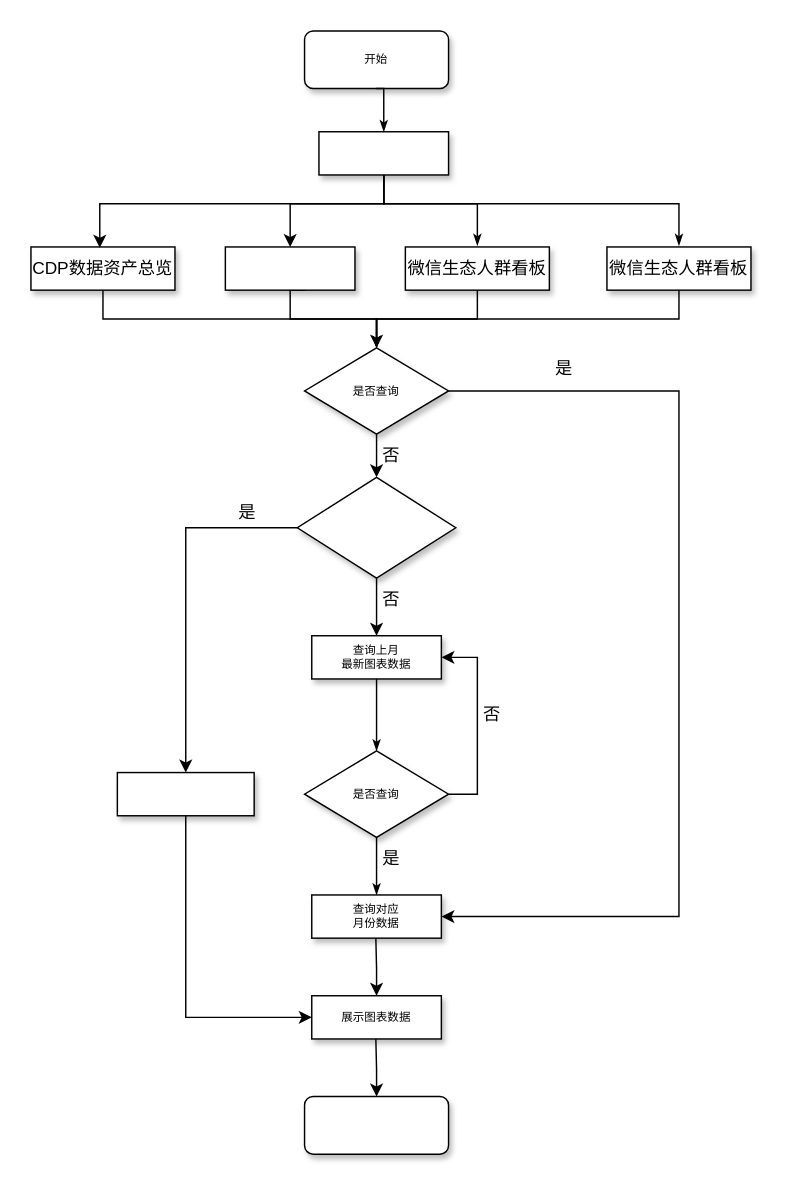
Image size: 785x1189. Some labels were removed from this diagram. The shapes that lost their labels are listed below. From the top down, each one's centre as x and y in pixels, then its label:
the point at 384,155: D ash board 看板
the point at 291,270: 媒介资产看板
the point at 377,529: 是否以过当 月第一周周末
the point at 186,795: 查询当月 最新图表数据
the point at 377,1126: 结束
